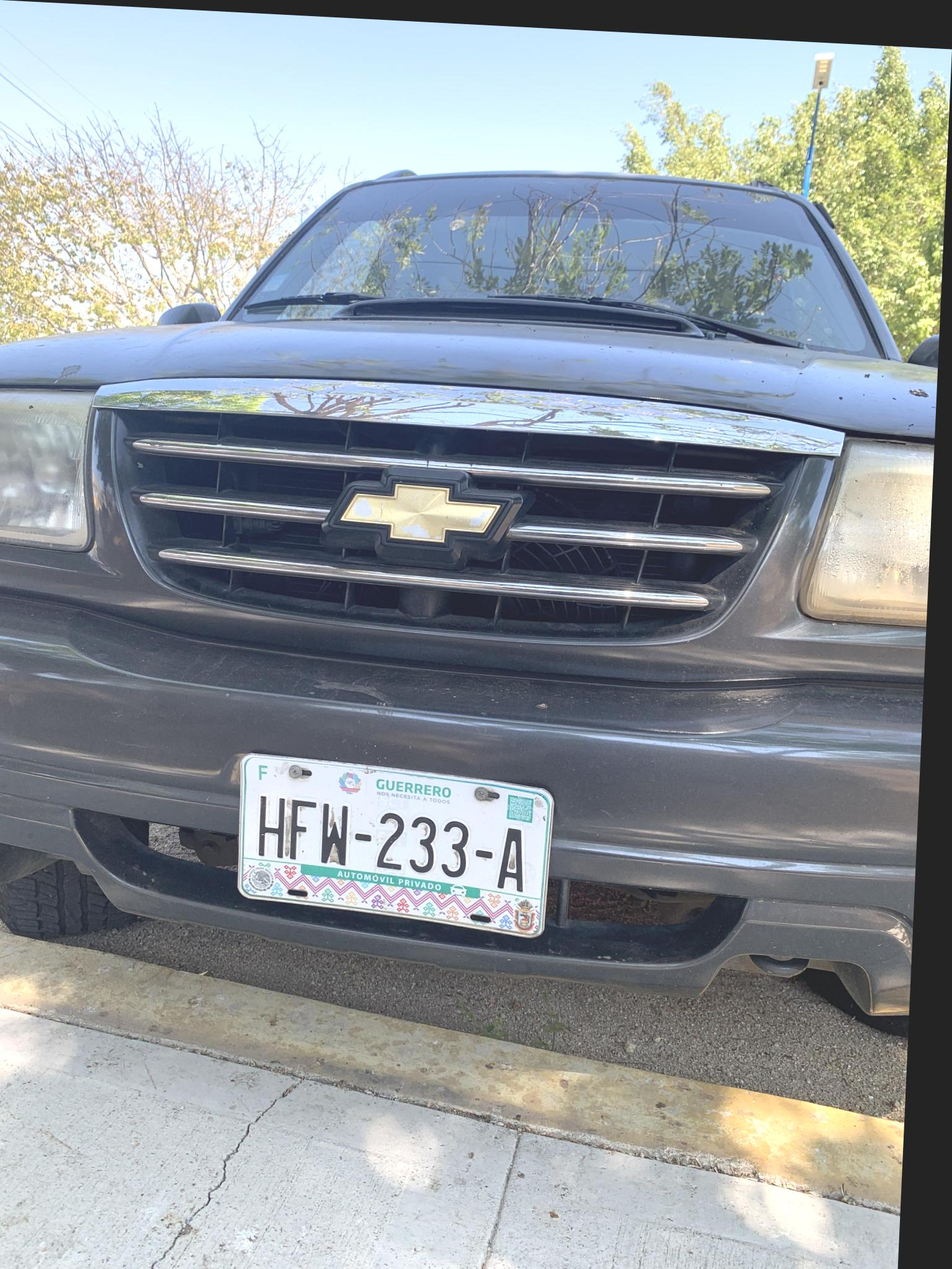License_Plate: (200, 743, 572, 960)
